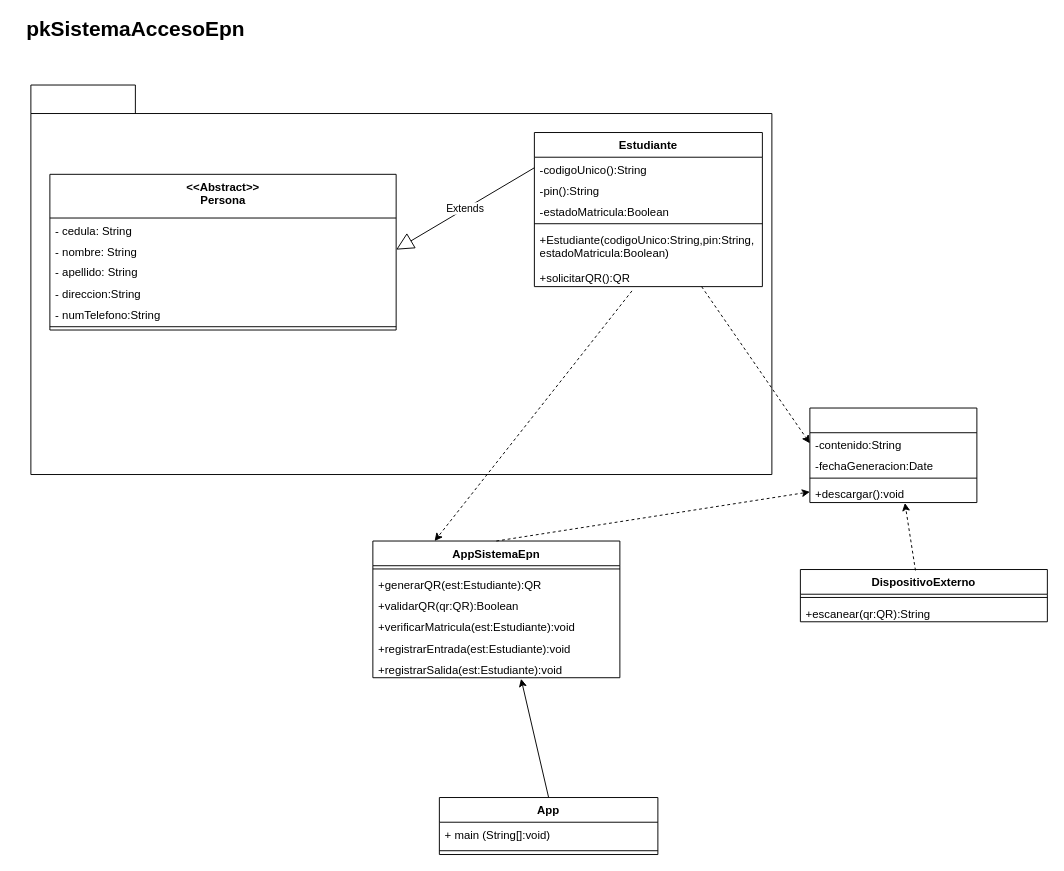
The diagram is 1064 pixels wide and 871 high, and some of its shapes have lost their labels. Each missing label, with the box of its shape:
pkHumano: (30, 84, 772, 475)
QR: (809, 407, 977, 503)
